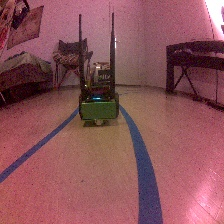rob: (77, 68, 120, 127)
